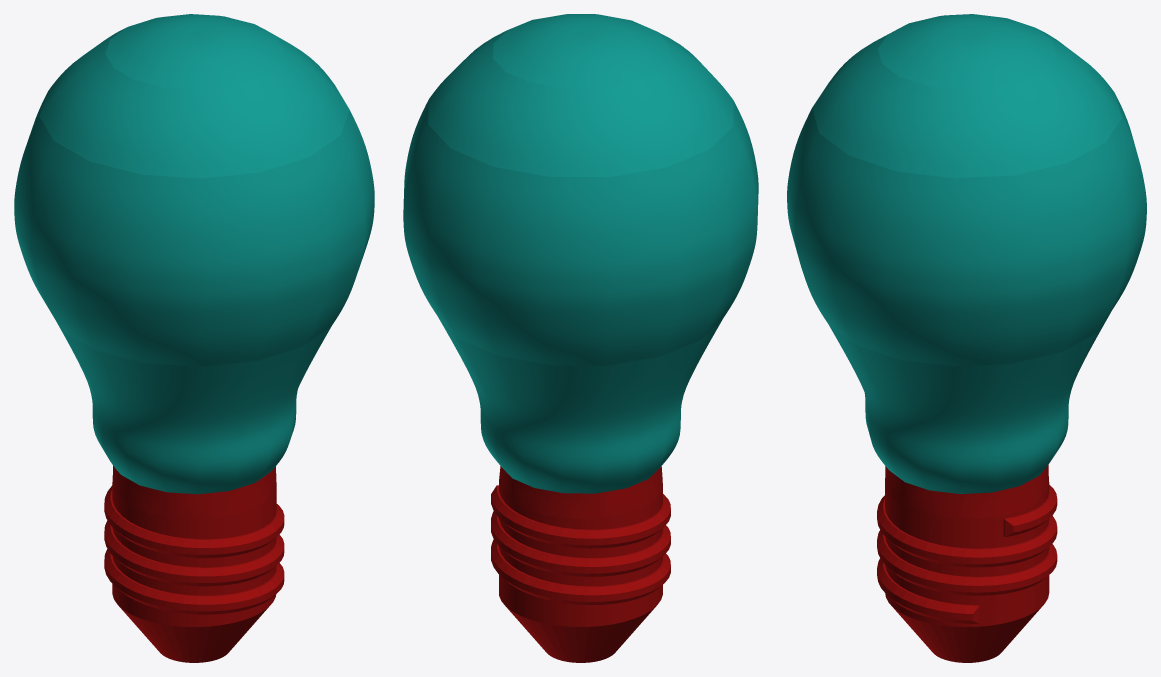
File: LightBulb.fbx
3 views of the same model, side by side, from view 1: azimuth 30°, elevation 25°; view 2: azimuth 150°, elevation 25°; view 3: azimuth 270°, elevation 25° (orthographic).
Visible parts, largest first — view 1: Line001; view 2: Line001; view 3: Line001.
Boxes of the visible parts, x1,y1,x2,y2 form: Line001: (14, 14, 374, 662); Line001: (403, 14, 758, 662); Line001: (787, 14, 1146, 662).
Bounding box in the file's own units: 23.06 × 43.5 × 23.06.
